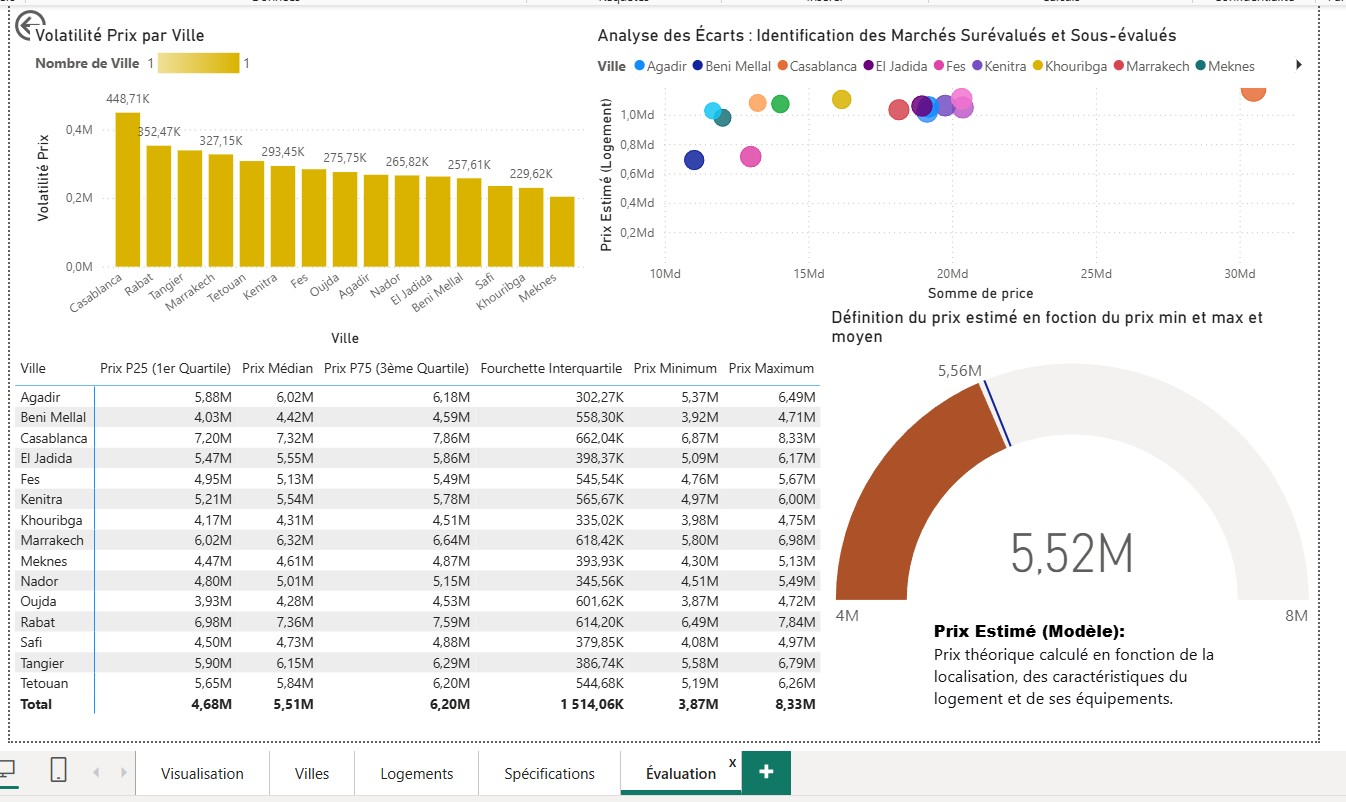

The page's visual inventory and layout, read from the dashboard file:
{"tool":"powerbi","page":{"name":"Évaluation","canvas":[1280,720],"ordinal":4},"visuals":[{"type":"gauge","title":"Définition du prix estimé en foction du prix min et max et moyen","fields":{"Y":["Fact_Housing.Prix Moyen en (DH)"],"MaxValue":["Fact_Housing.Prix Maximum"],"MinValue":["Fact_Housing.Prix Minimum"],"TargetValue":["Measures (2).Prix Estimé (Modèle)"]},"box":[798.5,294.7,481.8,324.1],"z":0},{"type":"actionButton","box":[0,0,100,40],"z":1000},{"type":"columnChart","fields":{"Category":["Dim_Ville.Ville"],"Y":["Measures (2).Volatilité Prix"]},"box":[19.6,19.6,550.3,319.2],"z":2000},{"type":"pivotTable","fields":{"Rows":["Dim_Ville.Ville"],"Values":["Measures (2).Prix P25 (1er Quartile)","Fact_Housing.Prix Médian","Measures (2).Prix P75 (3ème Quartile)","Measures (2).Fourchette Interquartile","Fact_Housing.Prix Minimum","Fact_Housing.Prix Maximum"]},"box":[0,338.7,798.5,381.5],"z":3000},{"type":"scatterChart","title":"Analyse des Écarts : Identification des Marchés Surévalués et Sous-évalués","fields":{"X":["Sum(Fact_Housing.price)"],"Series":["Dim_Ville.Ville"],"Y":["Measures (2).Prix Estimé (Logement)"],"Size":["Measures (2).% Écart Estimation"]},"box":[569.8,19.6,710.5,275.1],"z":4000},{"type":"textbox","box":[898.8,595.5,299.6,124.7],"z":5000}]}

Visuals, with their boxes on the page's 1280x720 design canvas (x1, y1, x2, y2). These are canvas units, not pixel positions in the 1346x802 screenshot, which may show the page scaled, cropped or inside an application window:
"Définition du prix estimé en foction du prix min et max et moyen" gauge: 798:295:1280:619
actionButton: 0:0:100:40
columnChart - Dim_Ville.Ville x Measures (2).Volatilité Prix: 20:20:570:339
pivotTable - Dim_Ville.Ville x Measures (2).Prix P25 (1er Quartile): 0:339:798:720
"Analyse des Écarts : Identification des Marchés Surévalués et Sous-évalués" scatterChart: 570:20:1280:295
textbox: 899:596:1198:720
